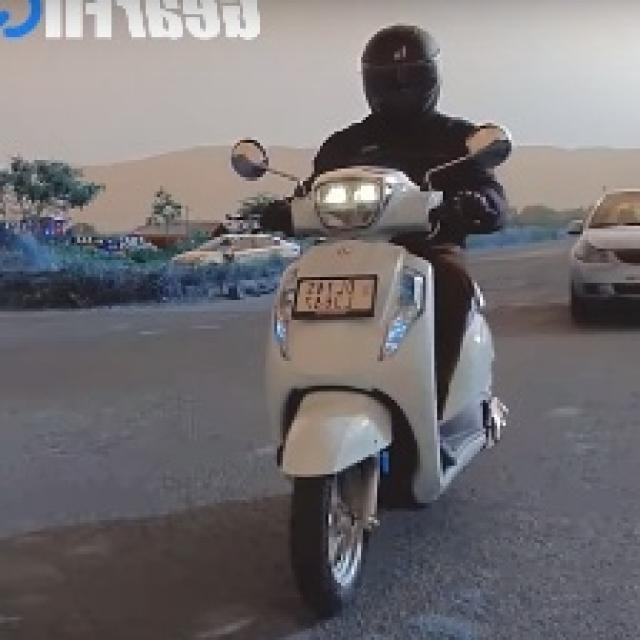bike: (249, 156, 502, 601)
